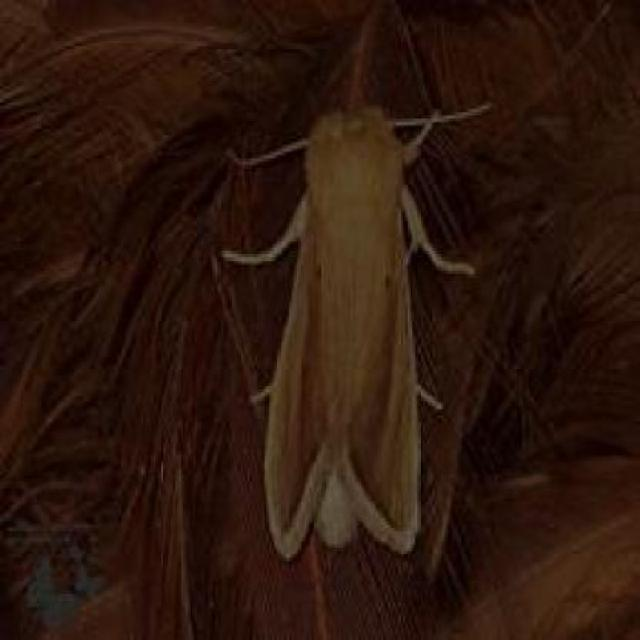stem-borer: (255, 97, 427, 569)
